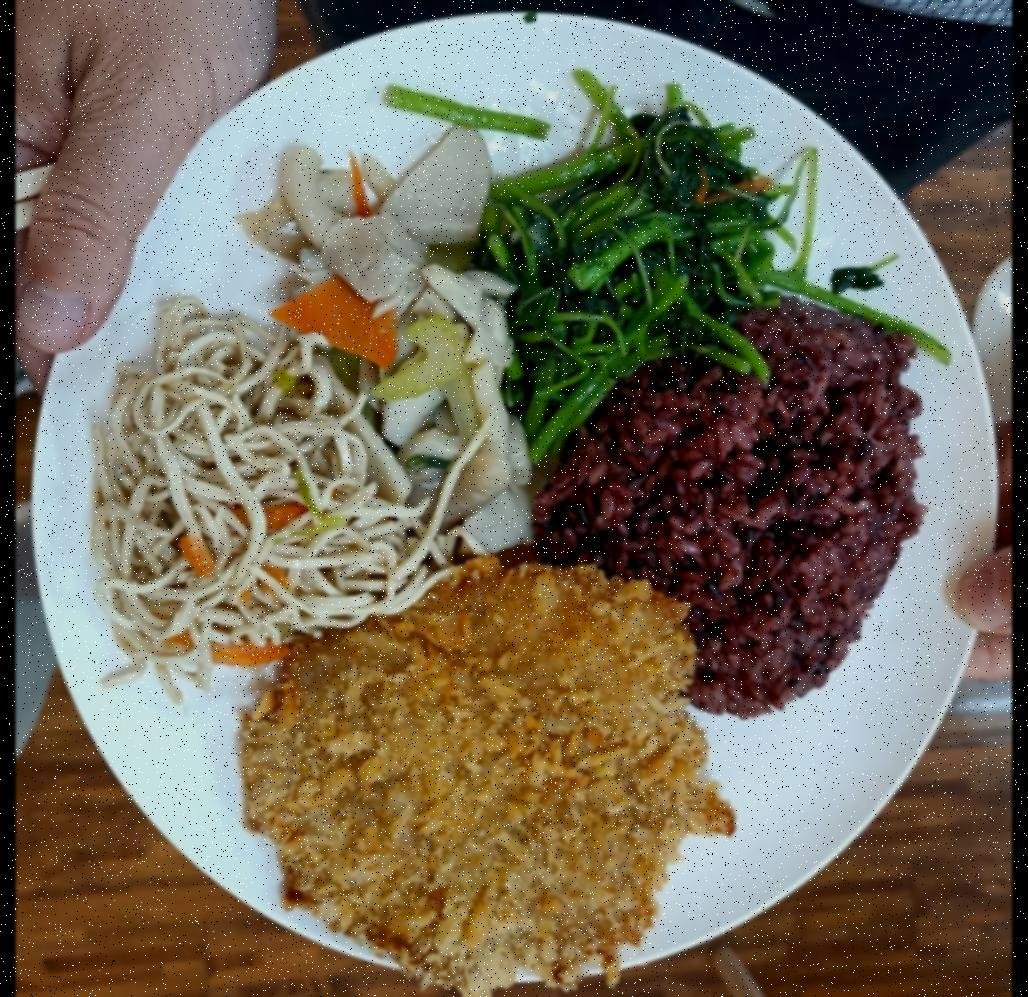fried pork chops: (262, 566, 697, 972)
plate: (24, 0, 987, 989)
purple rice: (621, 292, 907, 700)
side dish: (100, 312, 444, 654), (503, 108, 767, 390), (341, 148, 512, 509)
